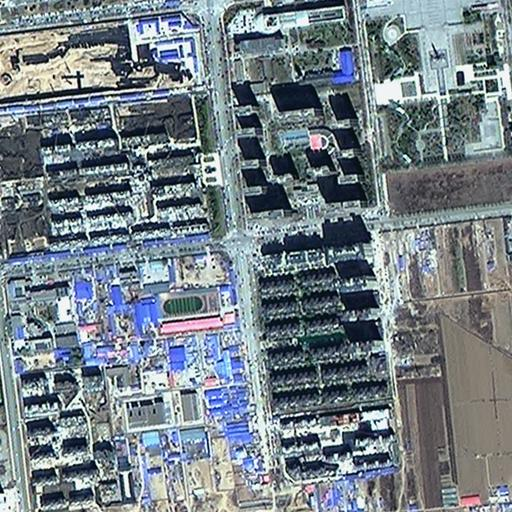school: (154, 291, 240, 333)
